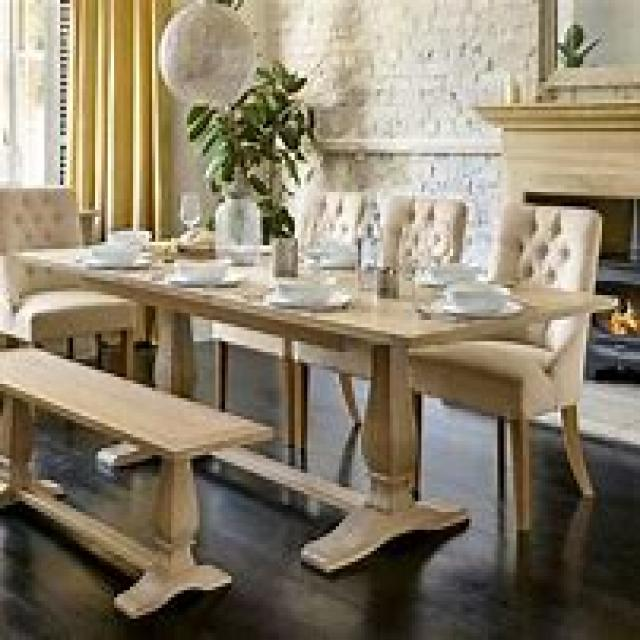table: (9, 235, 618, 572)
